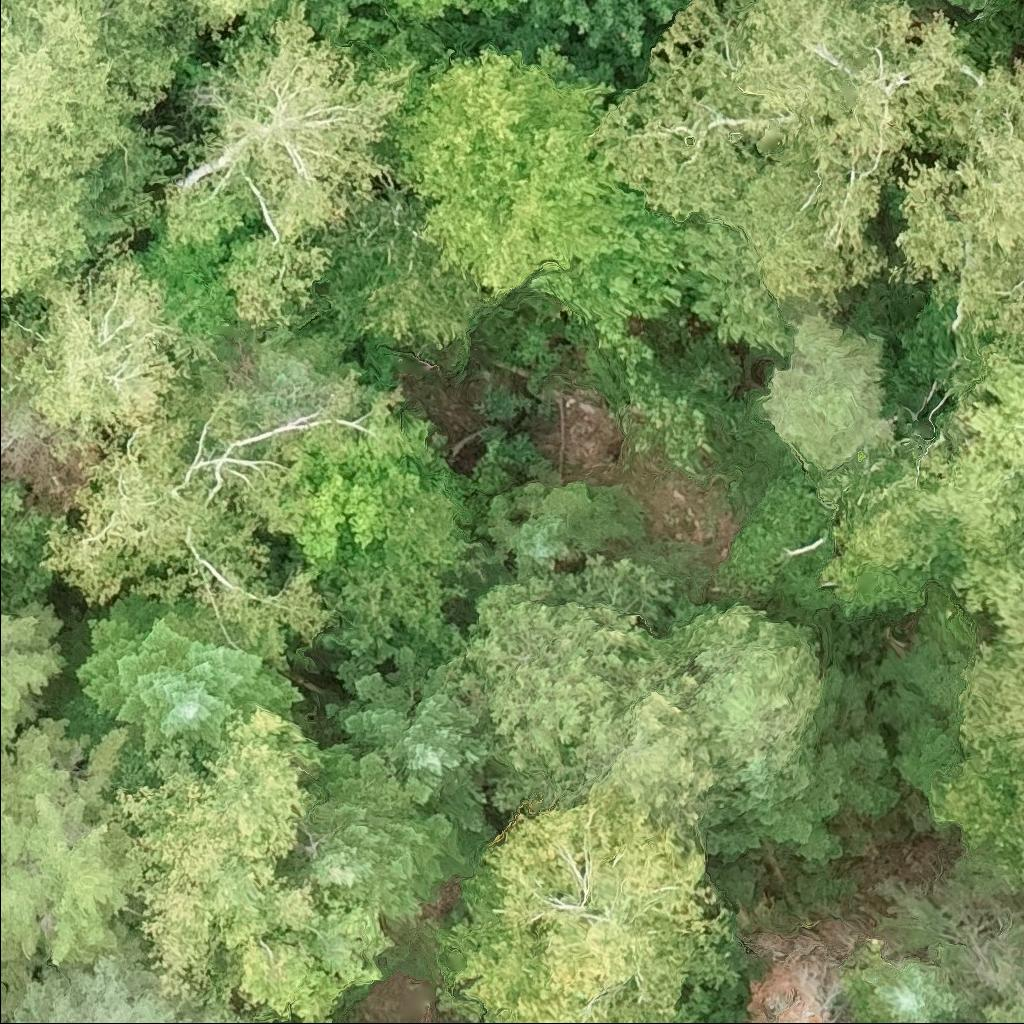crown: (594, 0, 1023, 347), (52, 372, 408, 662), (438, 780, 740, 1023), (368, 44, 625, 312), (109, 706, 319, 1023), (436, 550, 676, 815), (167, 0, 419, 246), (0, 0, 198, 299), (44, 591, 302, 763), (0, 715, 148, 995), (703, 664, 904, 869), (20, 252, 213, 461), (314, 634, 498, 845), (275, 742, 480, 919), (653, 602, 823, 773), (316, 189, 496, 349), (911, 341, 1023, 565), (599, 649, 720, 847), (817, 455, 964, 616), (473, 458, 648, 583), (760, 311, 893, 467), (282, 439, 413, 571), (0, 953, 246, 1023), (951, 533, 1023, 772), (927, 756, 1023, 884), (0, 595, 70, 751), (844, 938, 969, 1023), (235, 235, 333, 338), (567, 0, 695, 54), (0, 490, 54, 608), (392, 0, 531, 19), (188, 0, 260, 32), (986, 1018, 1006, 1023), (864, 1022, 870, 1023)
